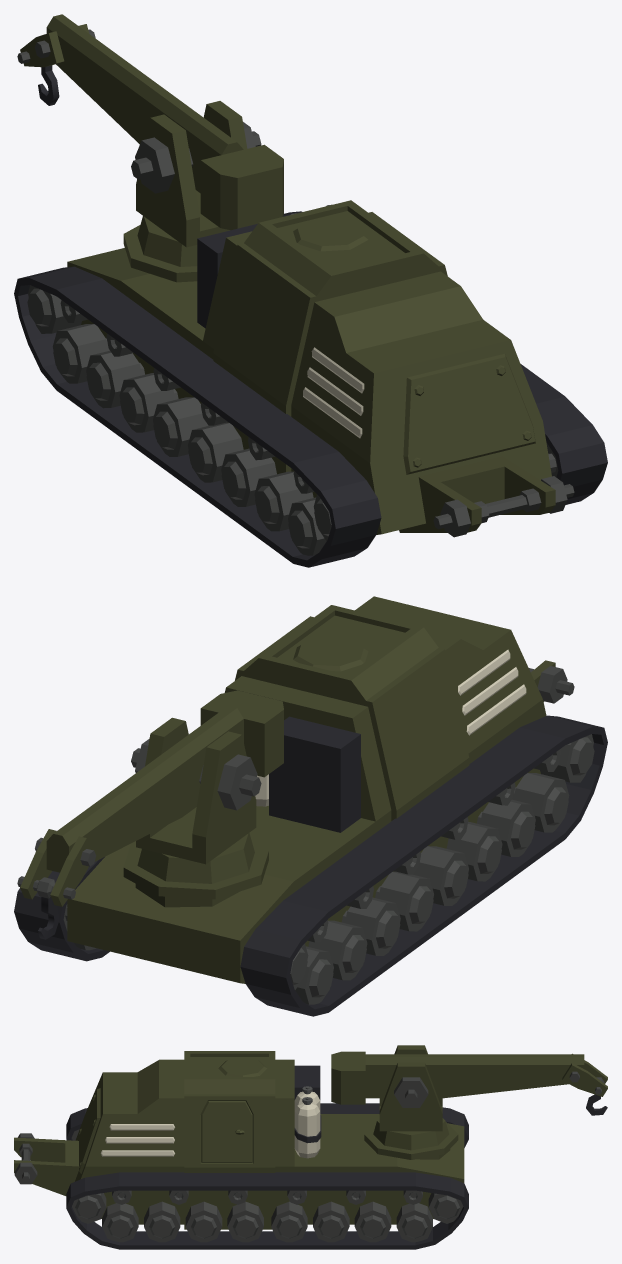
The model's file is LPWarPack_TankRecoveryVehicle.fbx.
3 renders of one model, top to bottom at view 1: azimuth 30°, elevation 25°; view 2: azimuth 150°, elevation 25°; view 3: azimuth 270°, elevation 25°, orthographic. The views are drawn at different scales.
Parts seen in each view (by area): view 1: TankRecoveryVehicle; view 2: TankRecoveryVehicle; view 3: TankRecoveryVehicle.
Boxes of the visible parts, x1,y1,x2,y2 form: TankRecoveryVehicle: [14, 14, 607, 567]; TankRecoveryVehicle: [14, 596, 607, 1016]; TankRecoveryVehicle: [14, 1045, 607, 1249].
Size of the model in its own units: 226 by 193 by 682.
